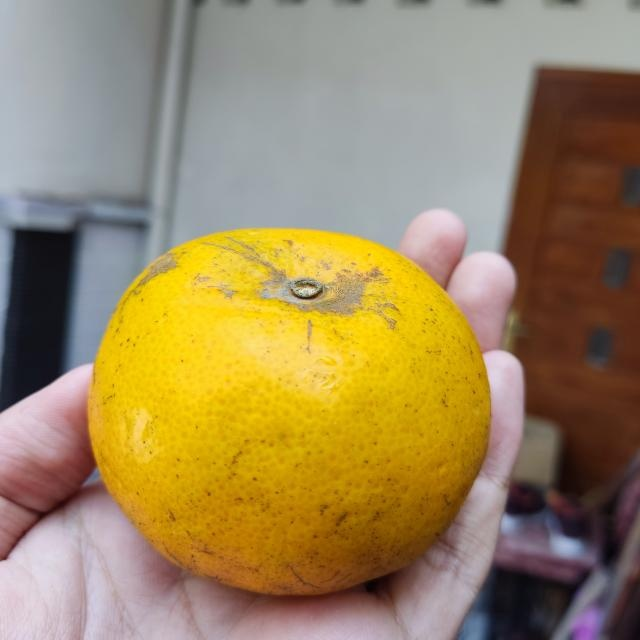agrume: (82, 223, 490, 598)
